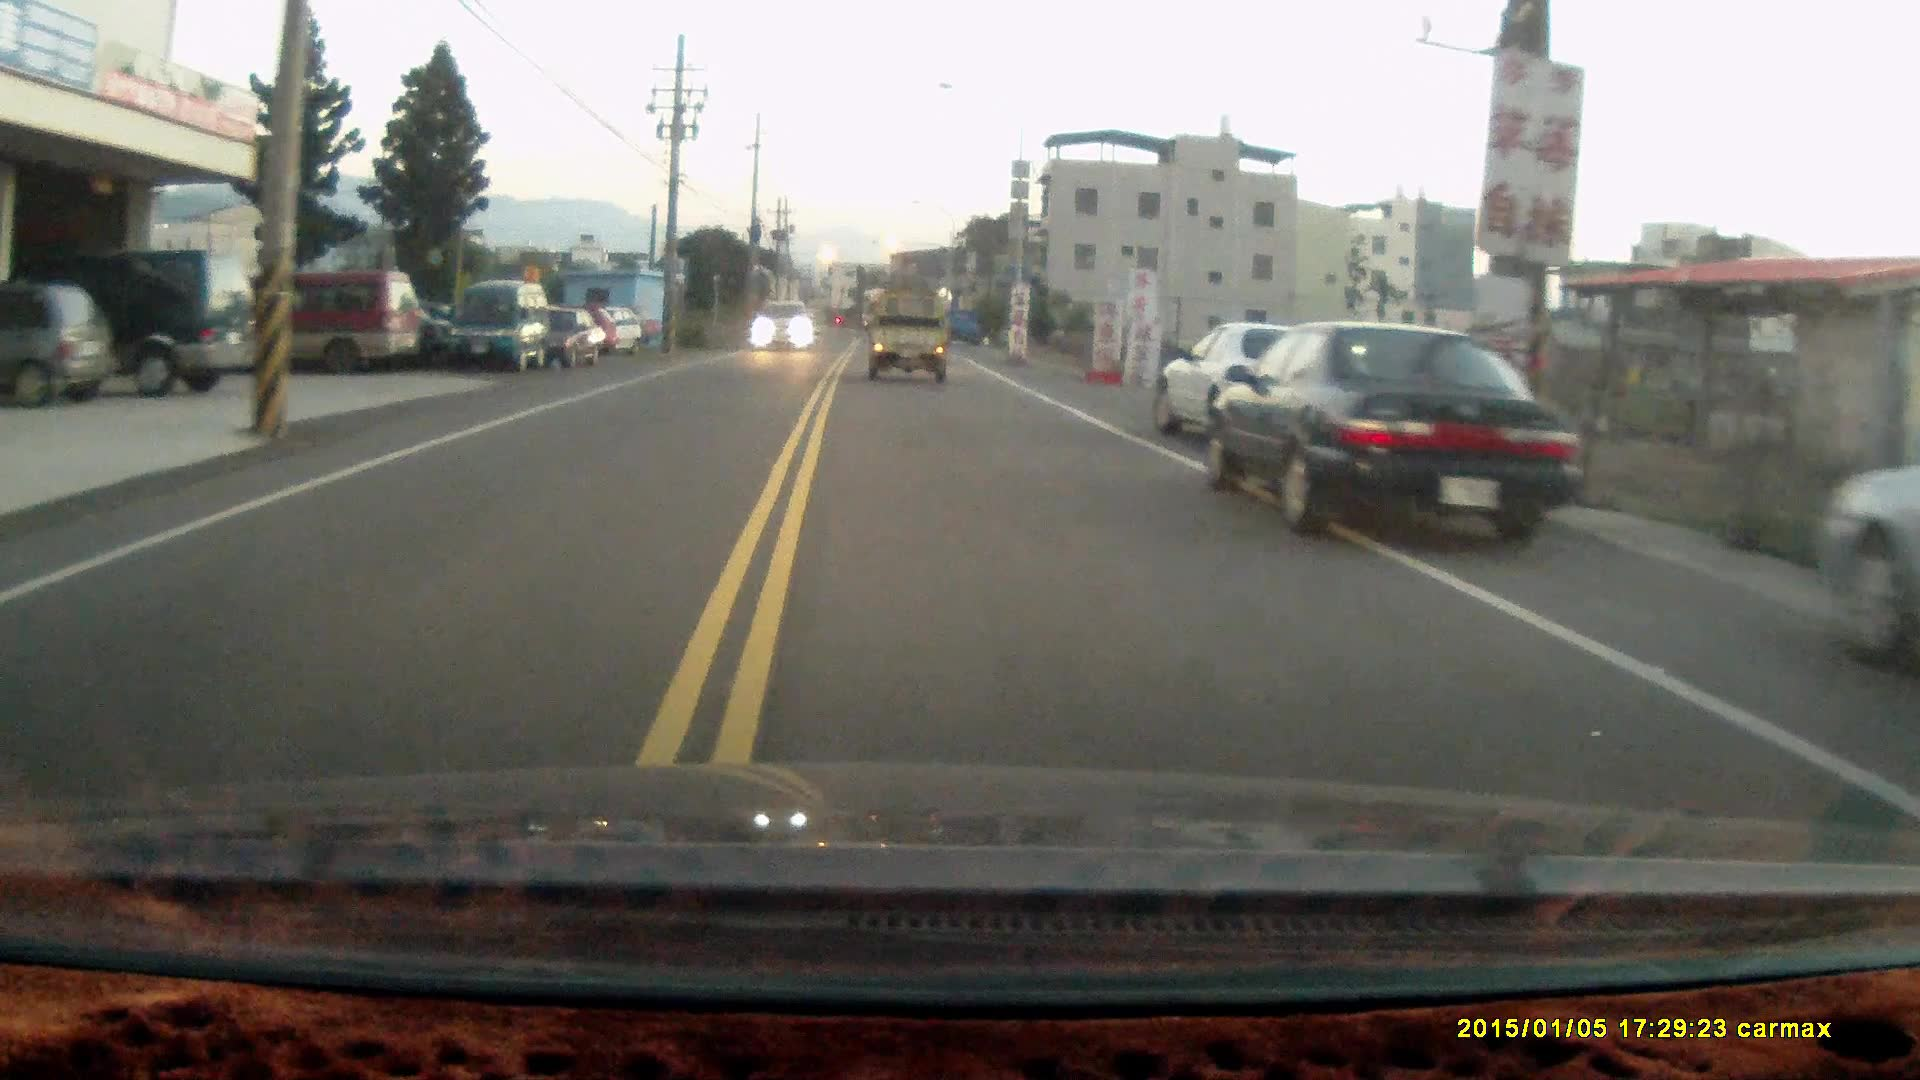vehicle: (1200, 316, 1577, 534), (12, 239, 261, 396), (1818, 446, 1920, 673), (225, 264, 423, 372), (1160, 318, 1317, 448), (1, 282, 115, 413), (440, 276, 551, 369), (866, 284, 948, 382), (520, 305, 609, 368), (752, 299, 818, 351)
